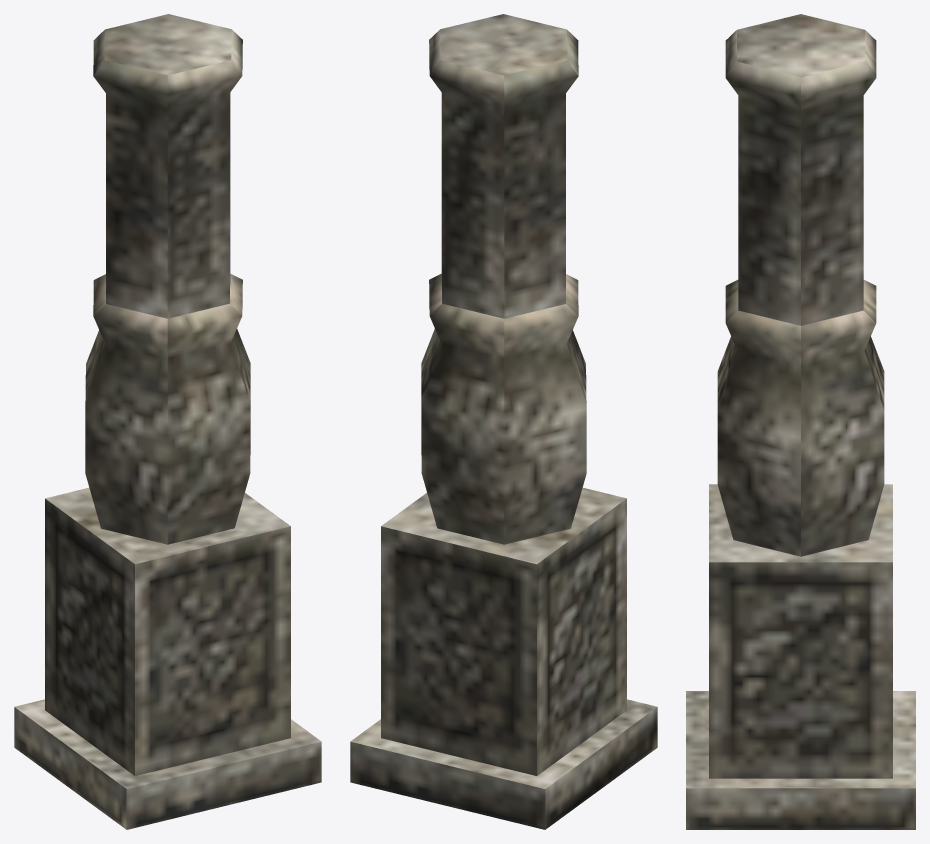
File: general_obj_stoneimage03.glb
3 renders of one model, left to right at view 1: azimuth 30°, elevation 25°; view 2: azimuth 150°, elevation 25°; view 3: azimuth 270°, elevation 25°, orthographic. The views are drawn at different scales.
Visible parts, largest first — view 1: Mesh03; view 2: Mesh03; view 3: Mesh03.
Part boxes in pixels (box(x1,y1,x2,y2)): Mesh03: box(14, 14, 321, 829); Mesh03: box(350, 14, 657, 829); Mesh03: box(686, 14, 915, 829).
Size of the model in its own units: 0.8807 by 3.11 by 0.8807.
1 material, 1 textured.
